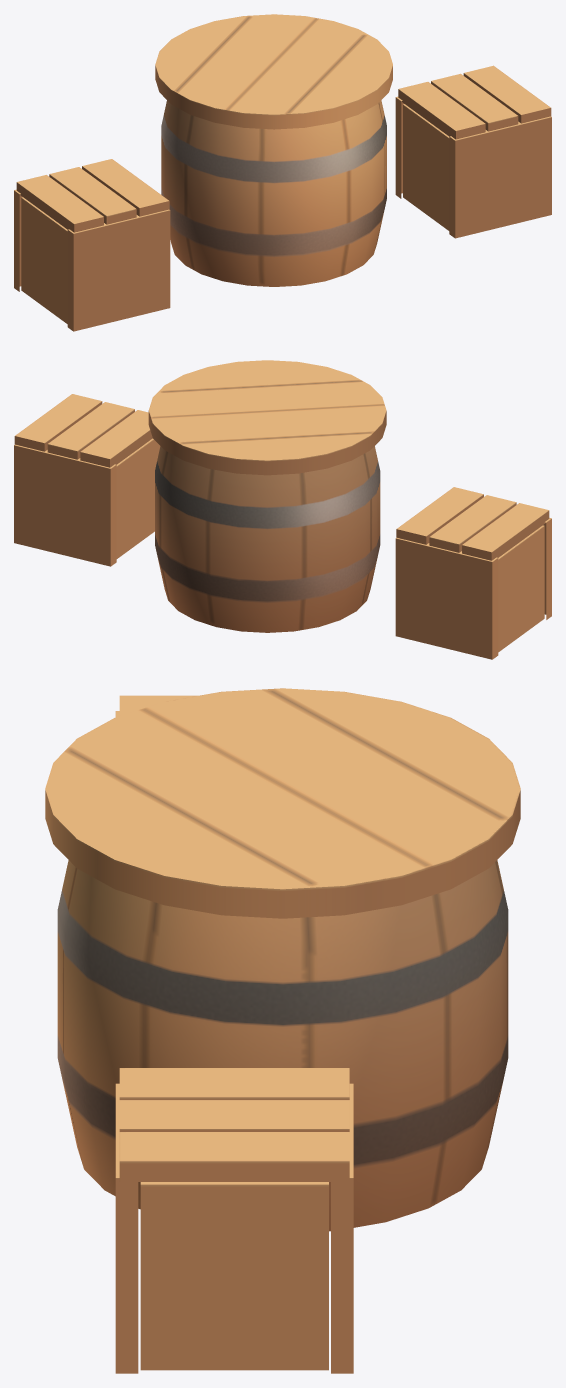
The model's file is table_1.fbx.
3 renders of one model, top to bottom at view 1: azimuth 30°, elevation 25°; view 2: azimuth 150°, elevation 25°; view 3: azimuth 270°, elevation 25°, orthographic. The views are drawn at different scales.
Visible parts, largest first — view 1: Cylinder, Cube.055, Cube.017; view 2: Cylinder, Cube.017, Cube.055; view 3: Cylinder, Cube.055, Cube.017.
Boxes of the visible parts, bbox=[...] form: Cylinder: bbox=[155, 14, 392, 286]; Cube.055: bbox=[395, 65, 551, 238]; Cube.017: bbox=[14, 159, 170, 331]; Cylinder: bbox=[148, 360, 386, 632]; Cube.017: bbox=[395, 487, 551, 659]; Cube.055: bbox=[14, 394, 160, 566]; Cylinder: bbox=[45, 688, 520, 1231]; Cube.055: bbox=[115, 1068, 353, 1373]; Cube.017: bbox=[115, 695, 197, 717].
Bounding box in the file's own units: 5.37 × 1.92 × 2.31.
